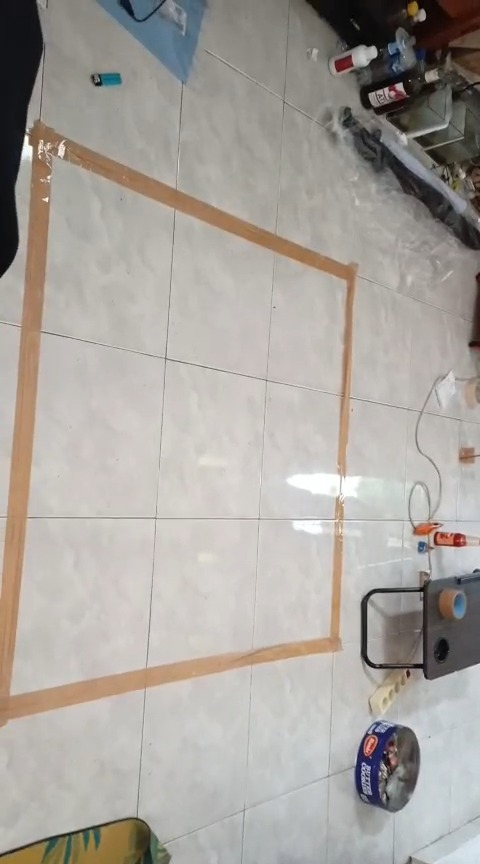floor marking: (0, 121, 355, 726)
